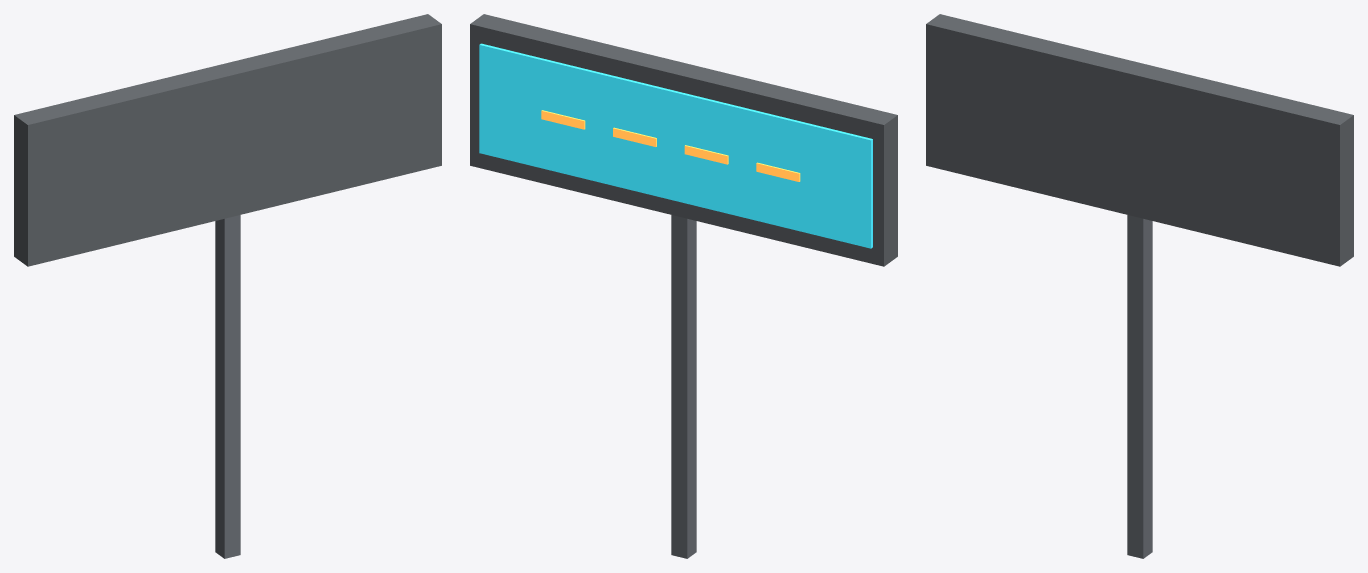
The model's file is holo_sign.glb.
The picture shows the model from 3 angles, left to right: view 1: azimuth 30°, elevation 25°; view 2: azimuth 150°, elevation 25°; view 3: azimuth 330°, elevation 25°; orthographic projection.
Visible parts, largest first — view 1: sign_panel_2, hologram_post_1; view 2: sign_light_3, sign_panel_2, hologram_post_1; view 3: sign_panel_2, hologram_post_1.
Part boxes in pixels (x1=…): sign_panel_2: x1=14, y1=14, x2=441, y2=266; hologram_post_1: x1=215, y1=215, x2=240, y2=558; sign_light_3: x1=479, y1=43, x2=872, y2=248; sign_panel_2: x1=470, y1=14, x2=897, y2=266; hologram_post_1: x1=671, y1=215, x2=696, y2=558; sign_panel_2: x1=926, y1=14, x2=1353, y2=266; hologram_post_1: x1=1127, y1=215, x2=1152, y2=558.
Bounding box in the file's own units: 2.6 × 2.91 × 0.18.
